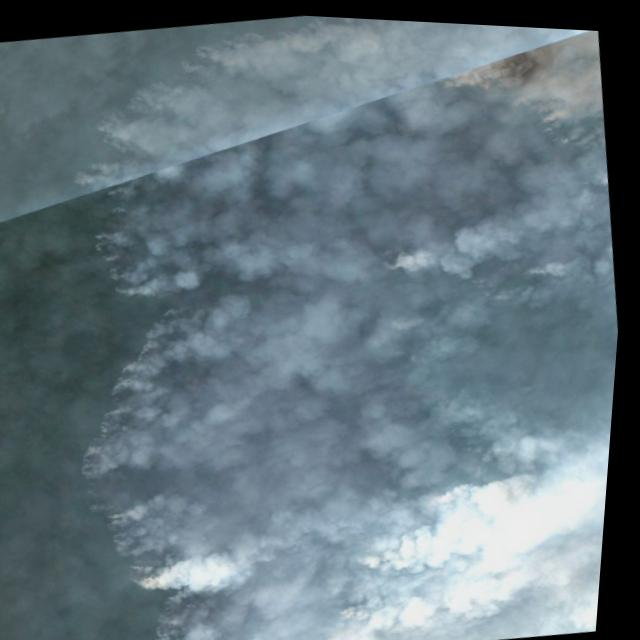fire: (13, 2, 640, 640)
